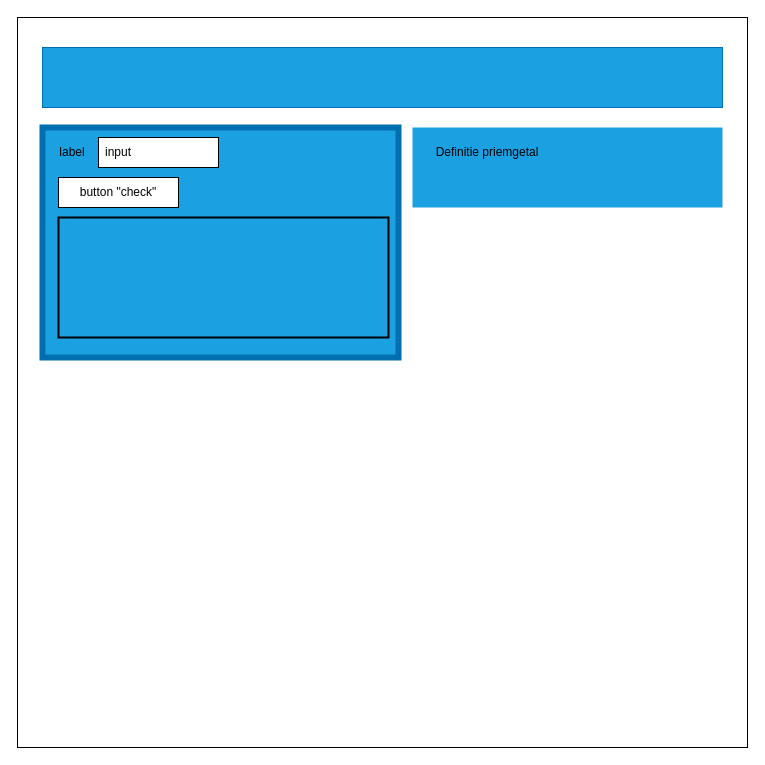
The diagram is 765 pixels wide and 765 high, and some of its shapes have lost their labels. The centre of each missing label's shape, as x and y in pixels:
resultaat: point (223, 277)
Titel: point (382, 77)
